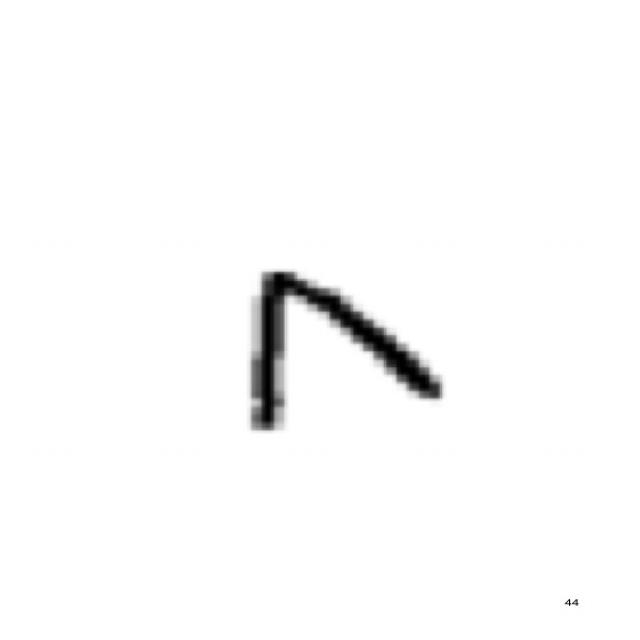8 -eight-: (228, 261, 468, 444)
